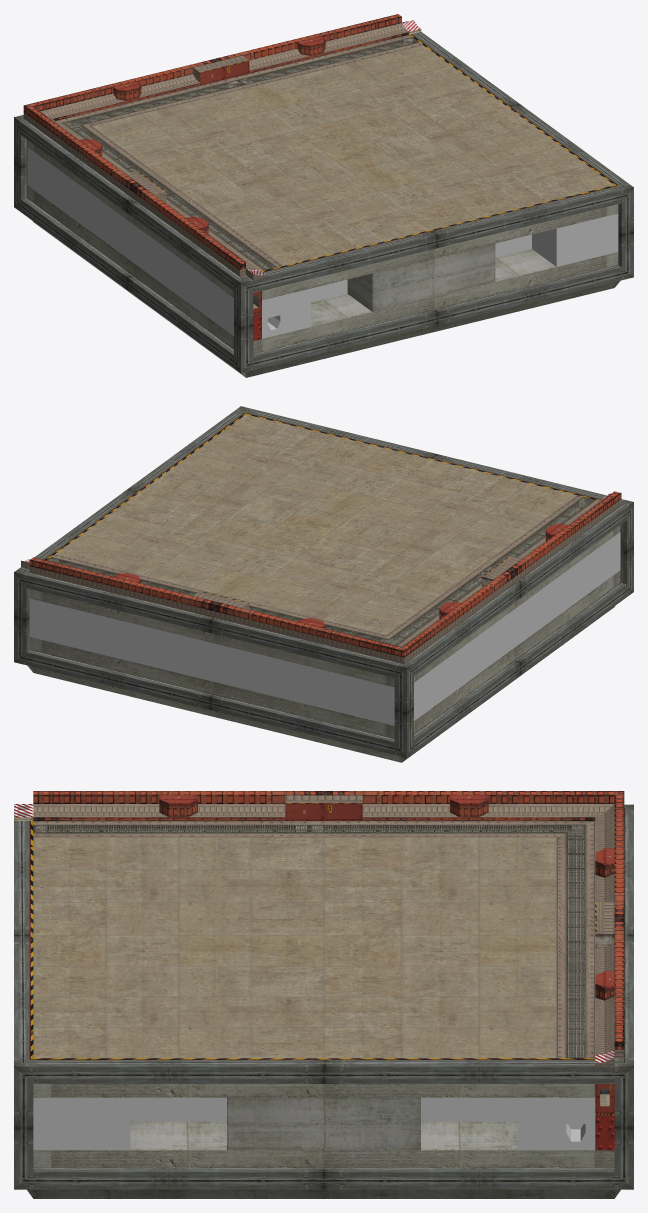
Rendered from WTP_H_Angular_L.fbx.
3 views of the same model, one above another, from view 1: azimuth 30°, elevation 25°; view 2: azimuth 150°, elevation 25°; view 3: azimuth 270°, elevation 25° (orthographic). The views are drawn at different scales.
Visible parts, largest first — view 1: WTP_H_Angular_L_Lod0; view 2: WTP_H_Angular_L_Lod0; view 3: WTP_H_Angular_L_Lod0.
Boxes of the visible parts, x1,y1,x2,y2 form: WTP_H_Angular_L_Lod0: (14, 14, 633, 377); WTP_H_Angular_L_Lod0: (14, 406, 633, 762); WTP_H_Angular_L_Lod0: (14, 791, 633, 1198).
Bounding box in the file's own units: 32 × 9 × 32.
